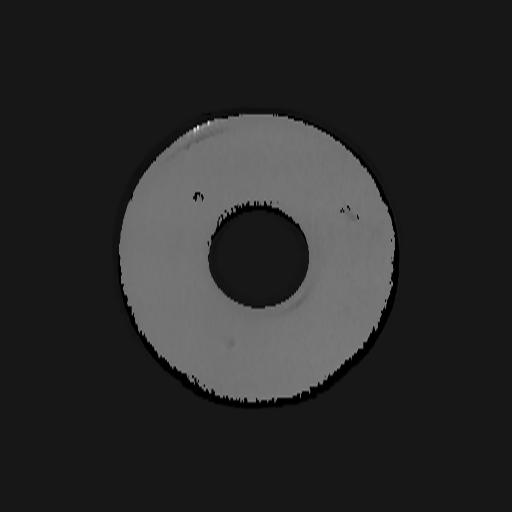defect: (340, 203, 360, 223), (193, 189, 204, 205)
